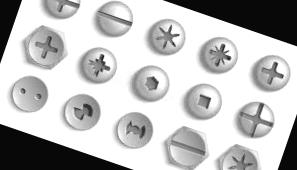hexagonal: (16, 20, 73, 74), (157, 120, 215, 170), (211, 138, 267, 170)
